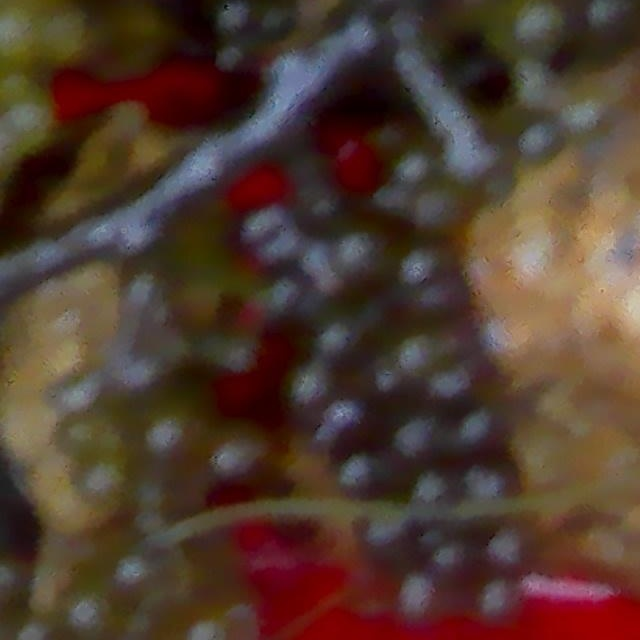SeaGrape: (309, 396, 374, 455), (508, 3, 566, 63), (109, 533, 160, 600), (206, 430, 264, 488), (407, 182, 464, 241), (392, 327, 450, 383), (336, 456, 395, 509), (579, 0, 640, 51), (415, 279, 476, 327), (141, 392, 192, 448), (397, 241, 457, 288), (332, 235, 390, 282), (360, 517, 414, 564), (463, 410, 514, 457), (428, 369, 477, 415), (216, 0, 262, 48), (414, 475, 461, 521), (318, 307, 362, 355), (388, 405, 432, 453), (398, 576, 446, 618), (487, 530, 529, 575), (435, 543, 478, 585), (479, 578, 521, 619)
